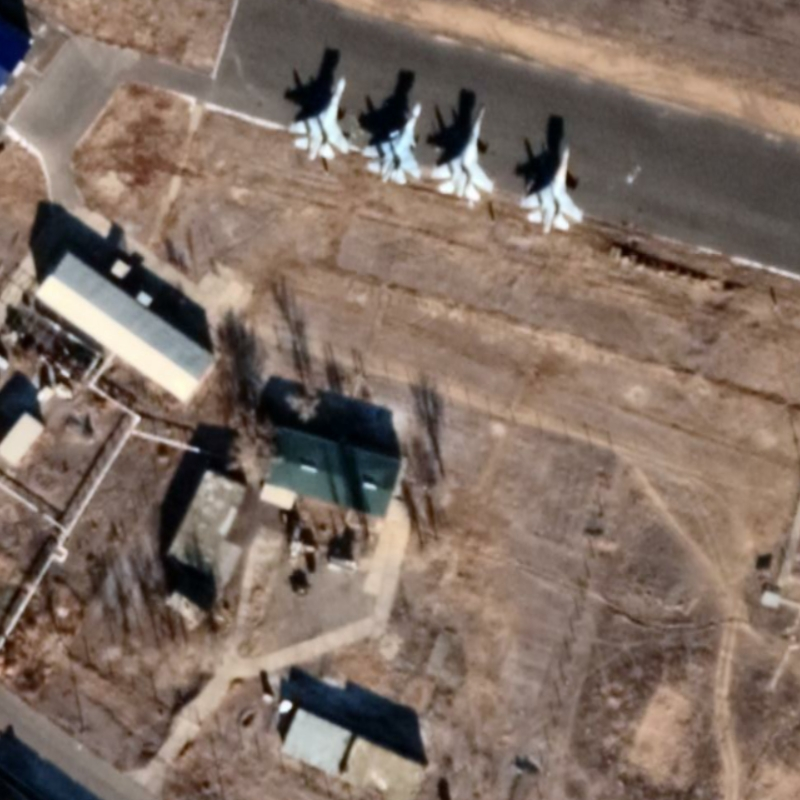A1: (426, 102, 500, 208), (513, 142, 587, 236), (286, 74, 354, 164)
A19: (358, 96, 426, 190)
